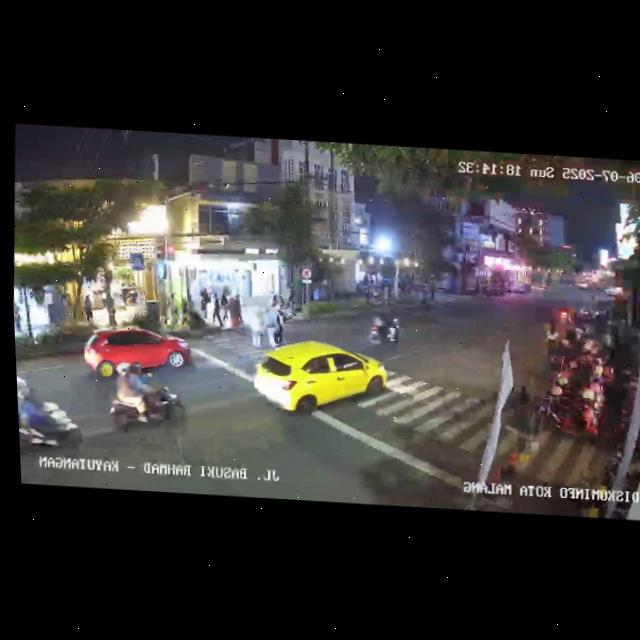car: (251, 338, 391, 422), (80, 322, 195, 385), (575, 275, 593, 291)
motorcycle: (103, 362, 187, 438), (17, 386, 86, 469), (366, 311, 402, 347)
person: (275, 308, 289, 347), (264, 308, 278, 347), (227, 296, 242, 332), (209, 292, 223, 329), (251, 311, 265, 348), (217, 292, 231, 324), (199, 287, 211, 322), (84, 293, 96, 323), (13, 303, 23, 333)
